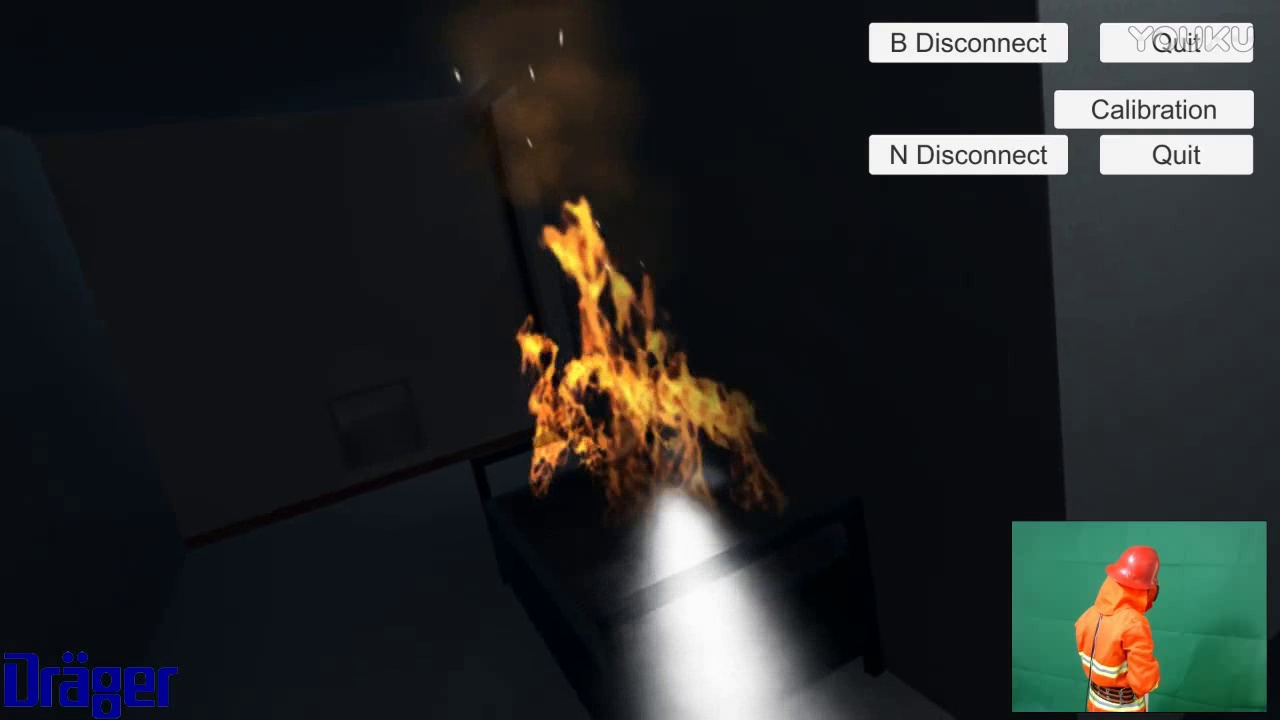fire: (499, 194, 790, 545)
